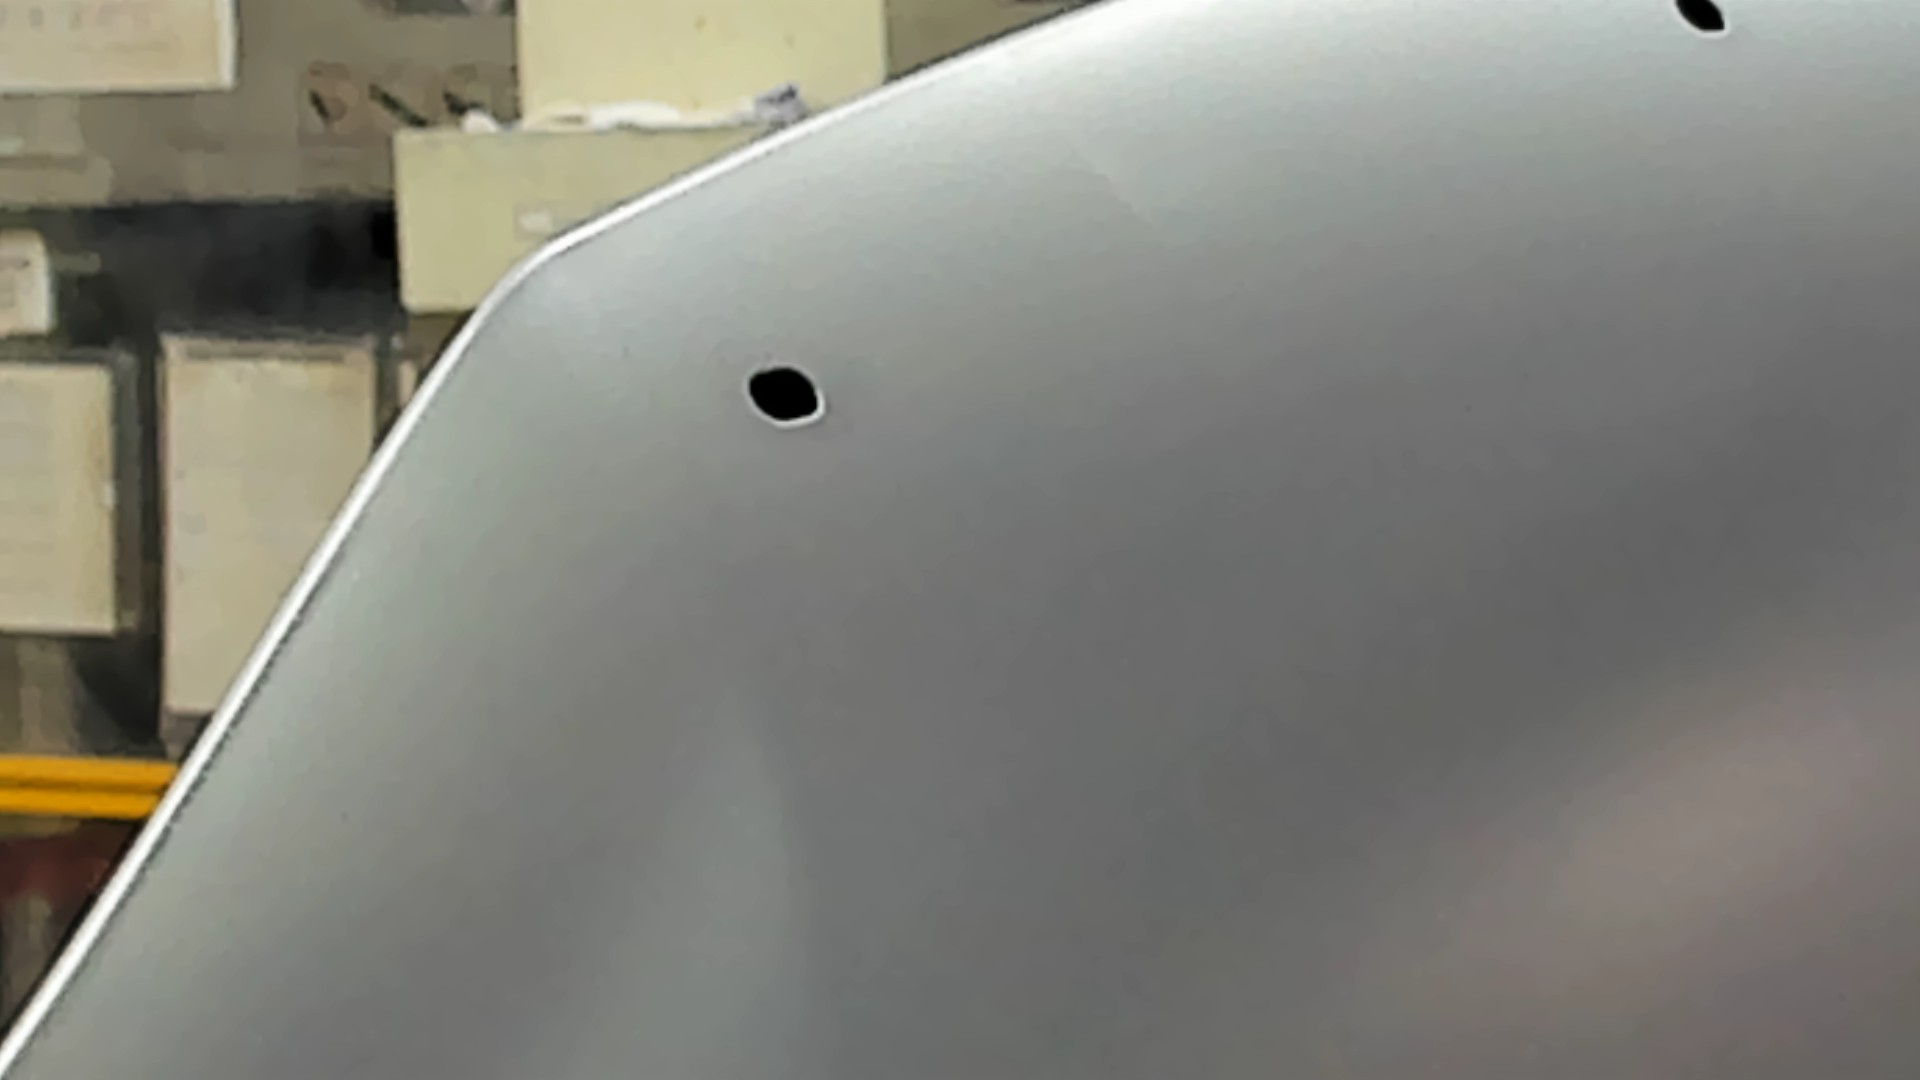amorfo: (741, 364, 833, 433), (1665, 1, 1735, 40)
